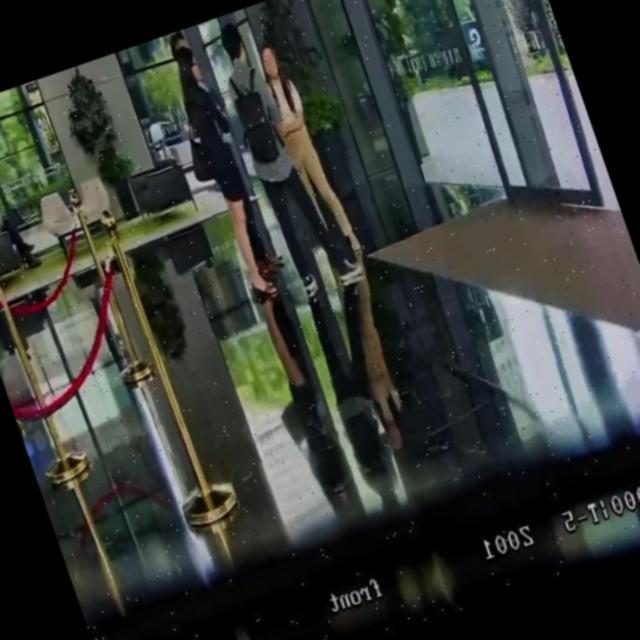person: (202, 11, 358, 310), (160, 41, 288, 308), (165, 22, 286, 279), (248, 34, 366, 282), (0, 191, 44, 286)
